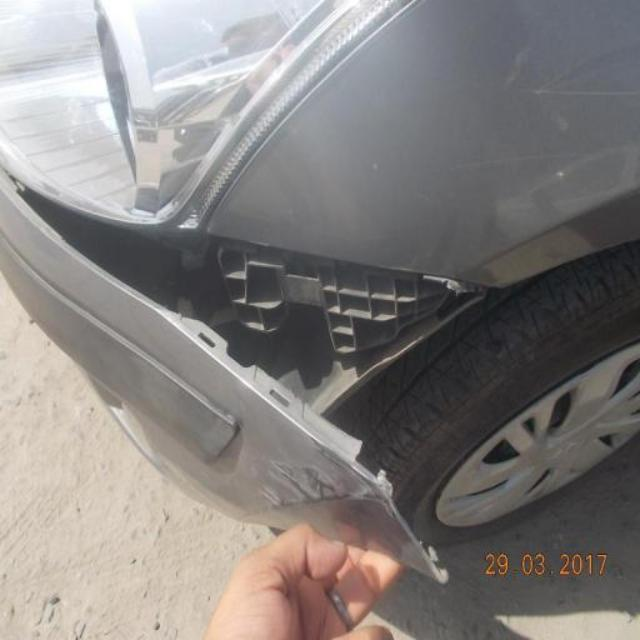dislocated part: (6, 177, 501, 575)
